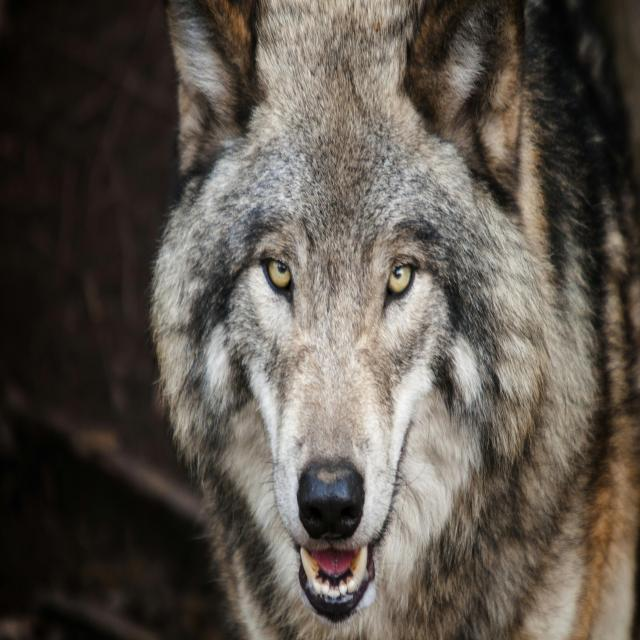Wolf: (143, 2, 640, 640)
